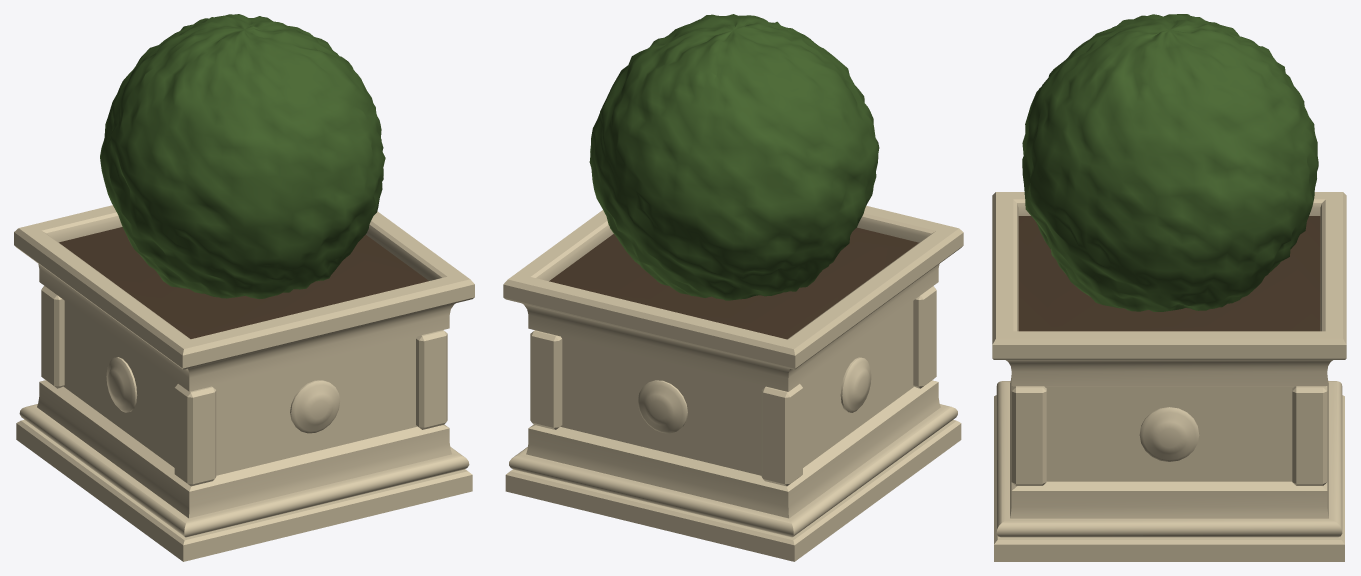
3 renders of one model, left to right at view 1: azimuth 30°, elevation 25°; view 2: azimuth 150°, elevation 25°; view 3: azimuth 270°, elevation 25°, orthographic. The views are drawn at different scales.
Visible parts, largest first — view 1: Planter_Stone, Topiary, Soil; view 2: Planter_Stone, Topiary, Soil; view 3: Planter_Stone, Topiary, Soil.
Boxes of the visible parts, bbox=[...] form: Planter_Stone: bbox=[14, 205, 474, 561]; Topiary: bbox=[100, 14, 385, 299]; Soil: bbox=[59, 227, 428, 338]; Planter_Stone: bbox=[503, 206, 963, 561]; Topiary: bbox=[589, 14, 879, 300]; Soil: bbox=[549, 227, 918, 339]; Planter_Stone: bbox=[992, 192, 1346, 561]; Topiary: bbox=[1022, 14, 1318, 311]; Soil: bbox=[1018, 216, 1320, 331].
Bounding box in the file's own units: 1.01 × 1.45 × 1.01.
